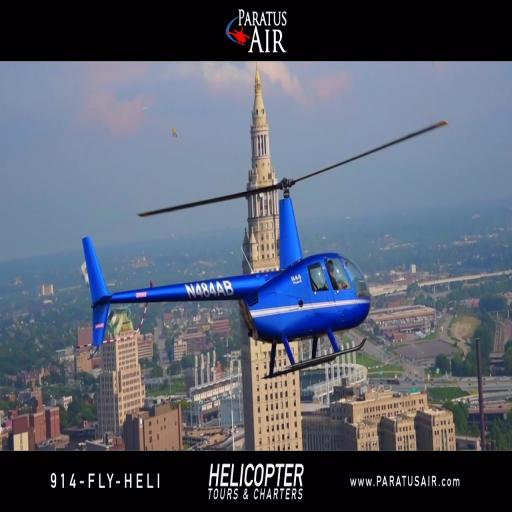helicopter: (82, 120, 451, 379)
